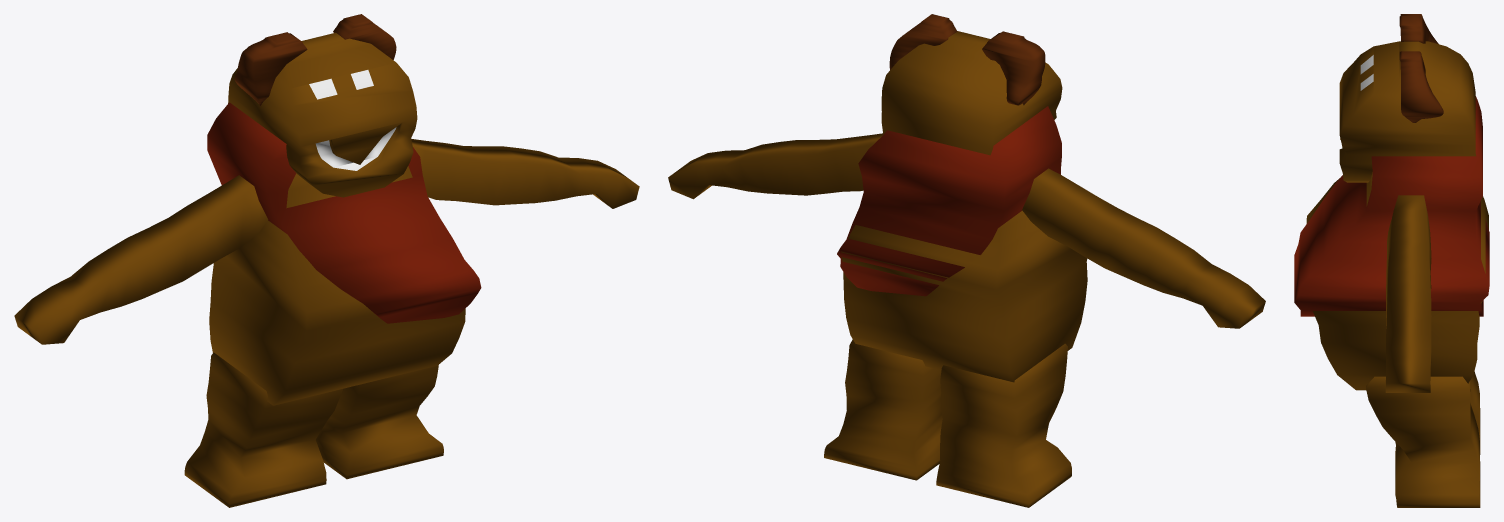
Rendered from Ewok.fbx.
The picture shows the model from 3 angles, left to right: view 1: azimuth 30°, elevation 25°; view 2: azimuth 150°, elevation 25°; view 3: azimuth 270°, elevation 25°; orthographic projection. The views are drawn at different scales.
Parts seen in each view (by area): view 1: Stomach, ChestCover, Head, Right Arm, Right Leg, Left Arm, Left Leg, right ear, left ear; view 2: Stomach, ChestCover, Right Leg, Right Arm, Head, Left Leg, Left Arm, right ear, left ear; view 3: ChestCover, Head, Left Leg, Left Arm, Stomach, left ear, right ear, Right Leg.
Part boxes in pixels (x1,y1,x2,y2): Stomach: (209,166,465,405); ChestCover: (207,102,481,323); Head: (228,32,417,197); Right Arm: (14,175,268,344); Right Leg: (184,352,342,507); Left Arm: (411,139,639,208); Left Leg: (316,365,443,479); right ear: (234,32,307,105); left ear: (333,14,396,59); Stomach: (841,210,1087,382); ChestCover: (837,106,1061,296); Right Leg: (936,343,1071,507); Right Arm: (1022,168,1265,328); Head: (881,31,1062,155); Left Leg: (824,339,942,480); Left Arm: (668,133,882,199); right ear: (982,31,1045,105); left ear: (889,14,957,69); ChestCover: (1294,96,1489,316); Head: (1339,41,1476,182); Left Leg: (1366,376,1480,507); Left Arm: (1385,195,1431,392); Stomach: (1306,172,1488,390); left ear: (1399,51,1443,122); right ear: (1399,14,1438,44); Right Leg: (1395,371,1480,454).
Size of the model in its own units: 218 by 157 by 66.09.
